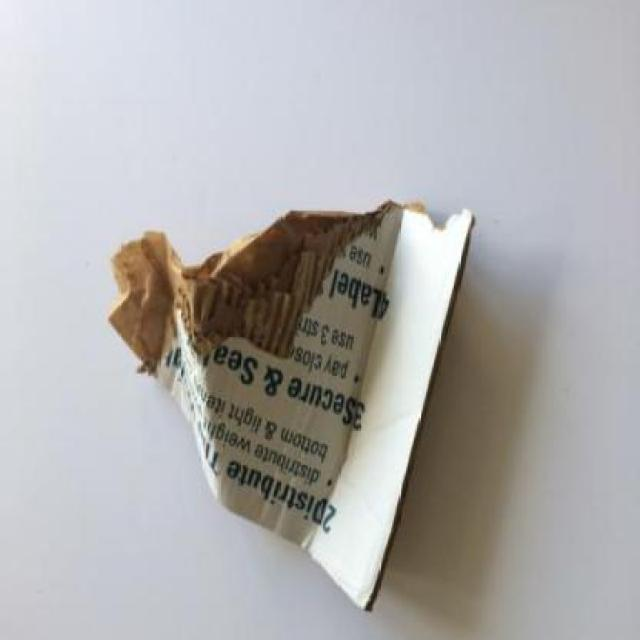box: (95, 113, 503, 640)
